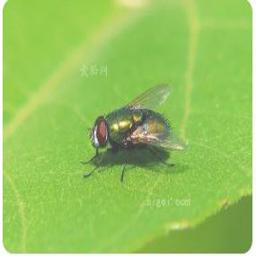liriomyza: (81, 82, 188, 183)
